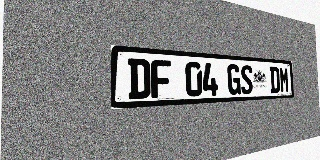0: (185, 61, 202, 97)
4: (202, 62, 218, 96)
D: (128, 58, 150, 99), (269, 66, 280, 93)
F: (151, 59, 171, 98)
G: (227, 64, 241, 95)
M: (279, 67, 289, 93)
S: (240, 65, 253, 94)
